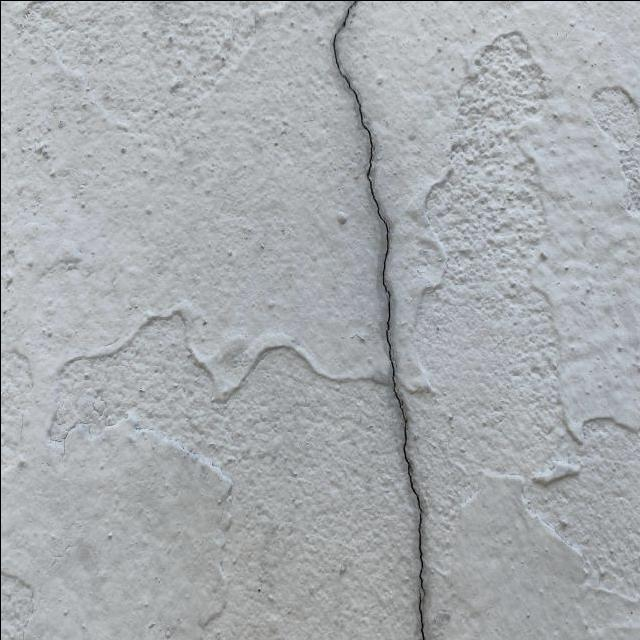SurfaceCrack: (296, 0, 478, 640)
